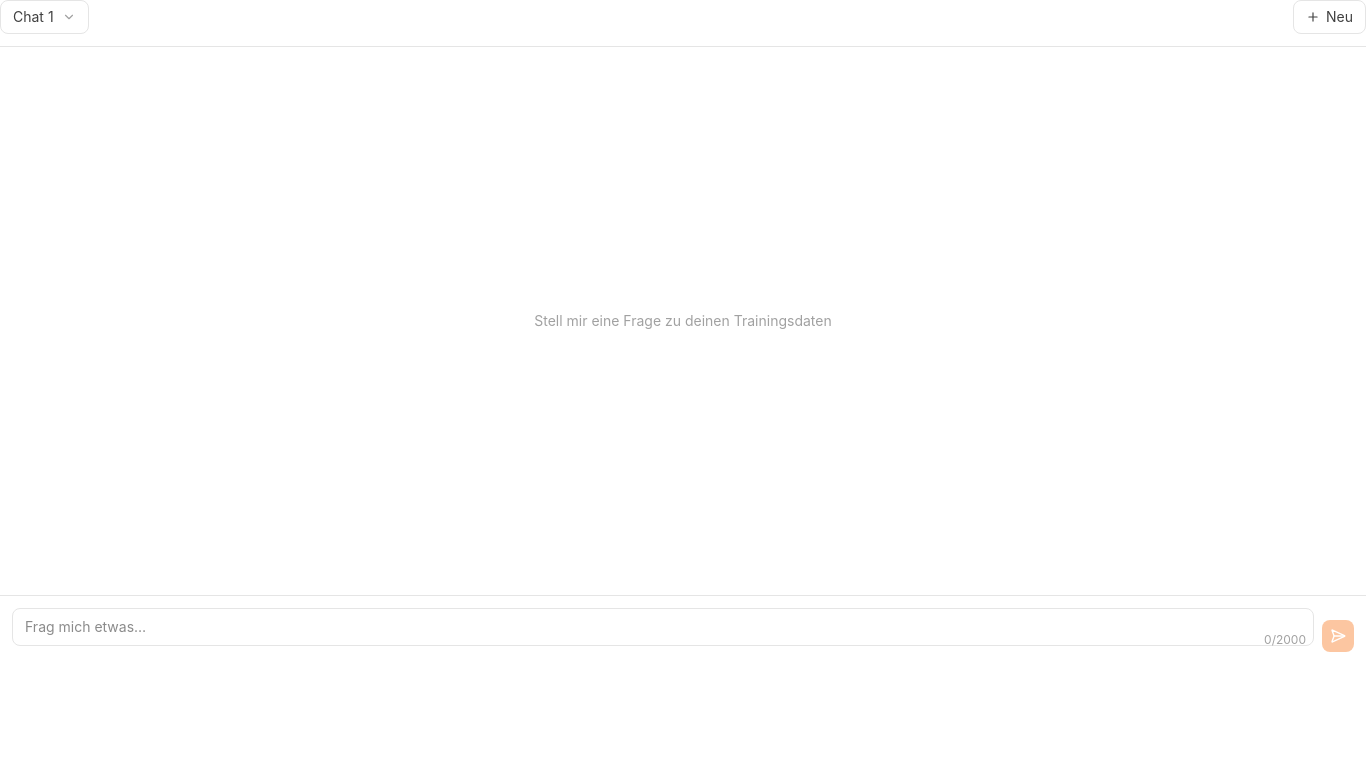
Test: ChatPage › clears a pending confirmation immediately when switching sessions after streaming
The image size is (1366, 768).
Type "Bitte vorbereiten" into the text box with placeholder "Frag mich etwas…" at (663, 627), box [12,608,1314,646]
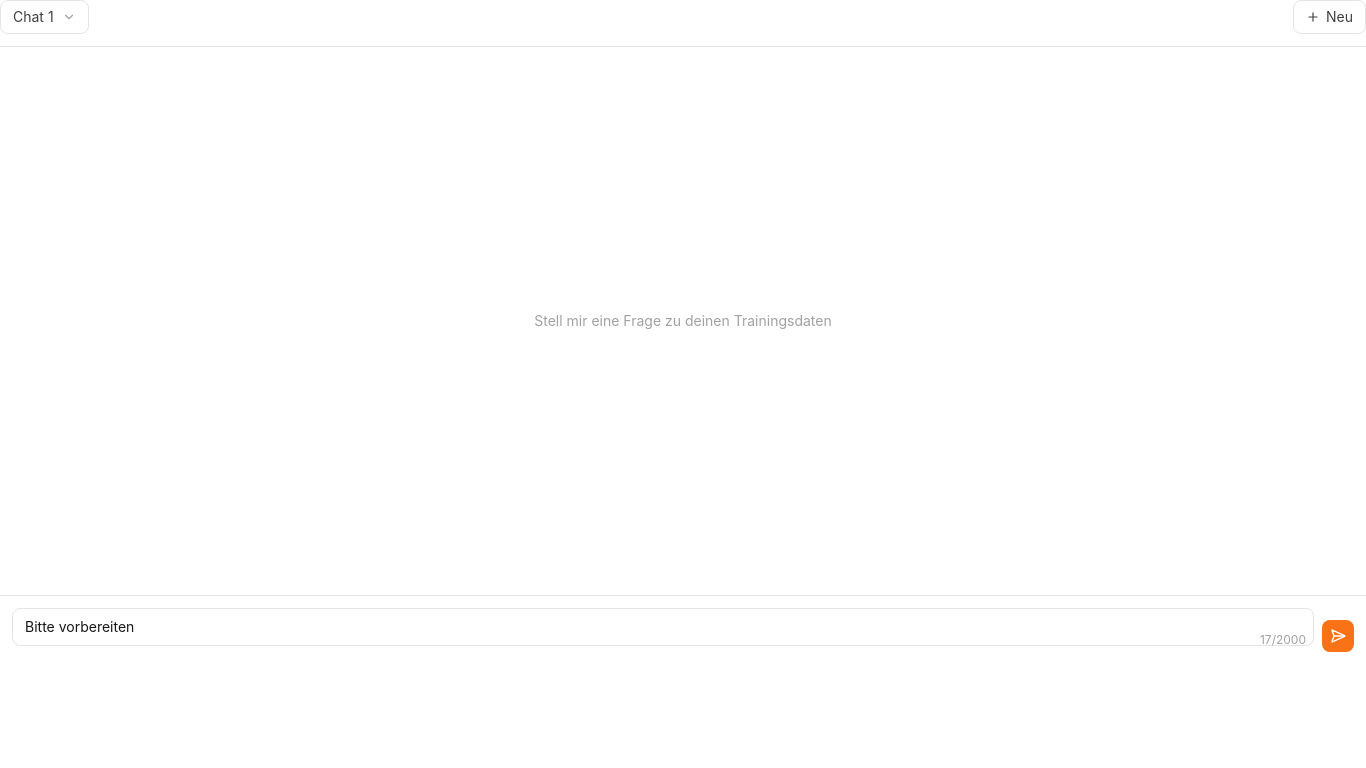
Press Enter in the text box with placeholder "Frag mich etwas…", box [12,608,1314,646]
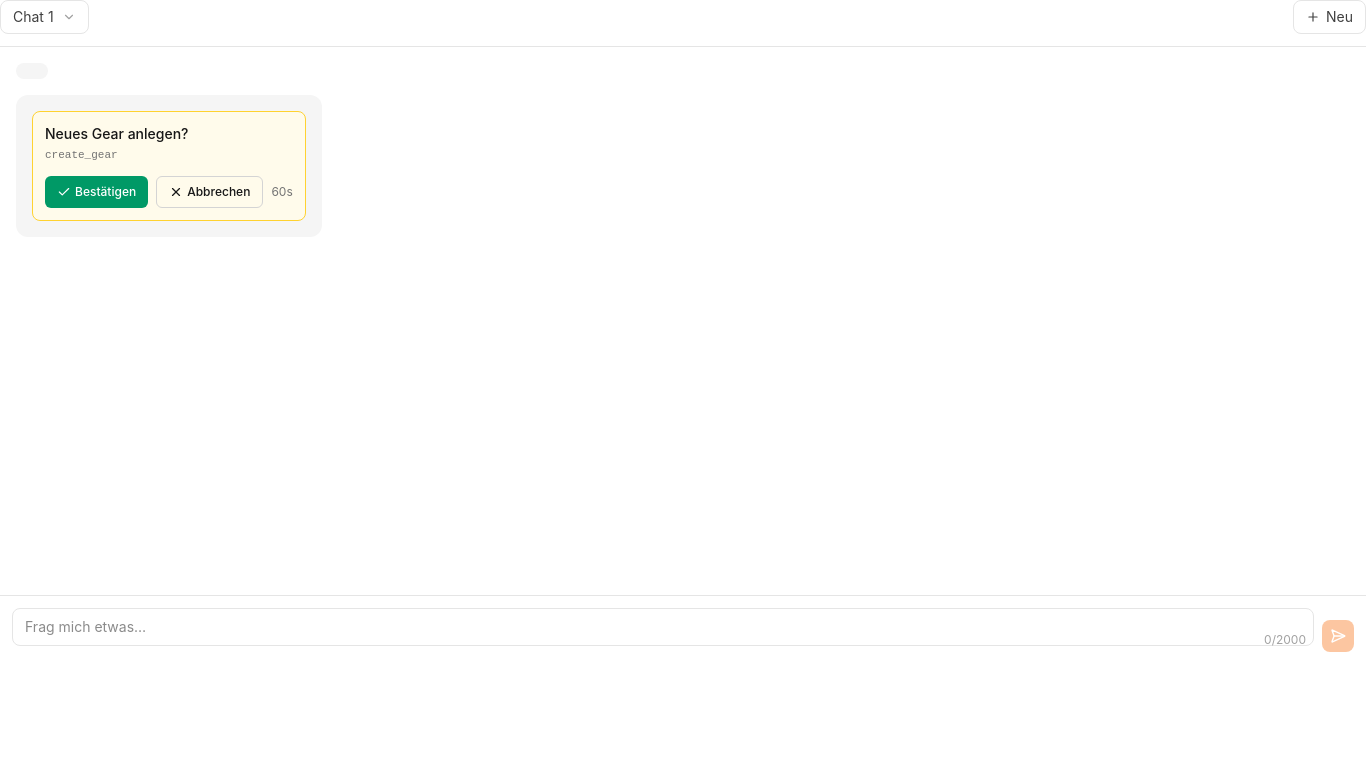
Check: the text "Neues Gear anlegen?" is shown, box [45,125,188,142]
Click the button "Chat 1" at (44, 17), box [0,0,89,34]
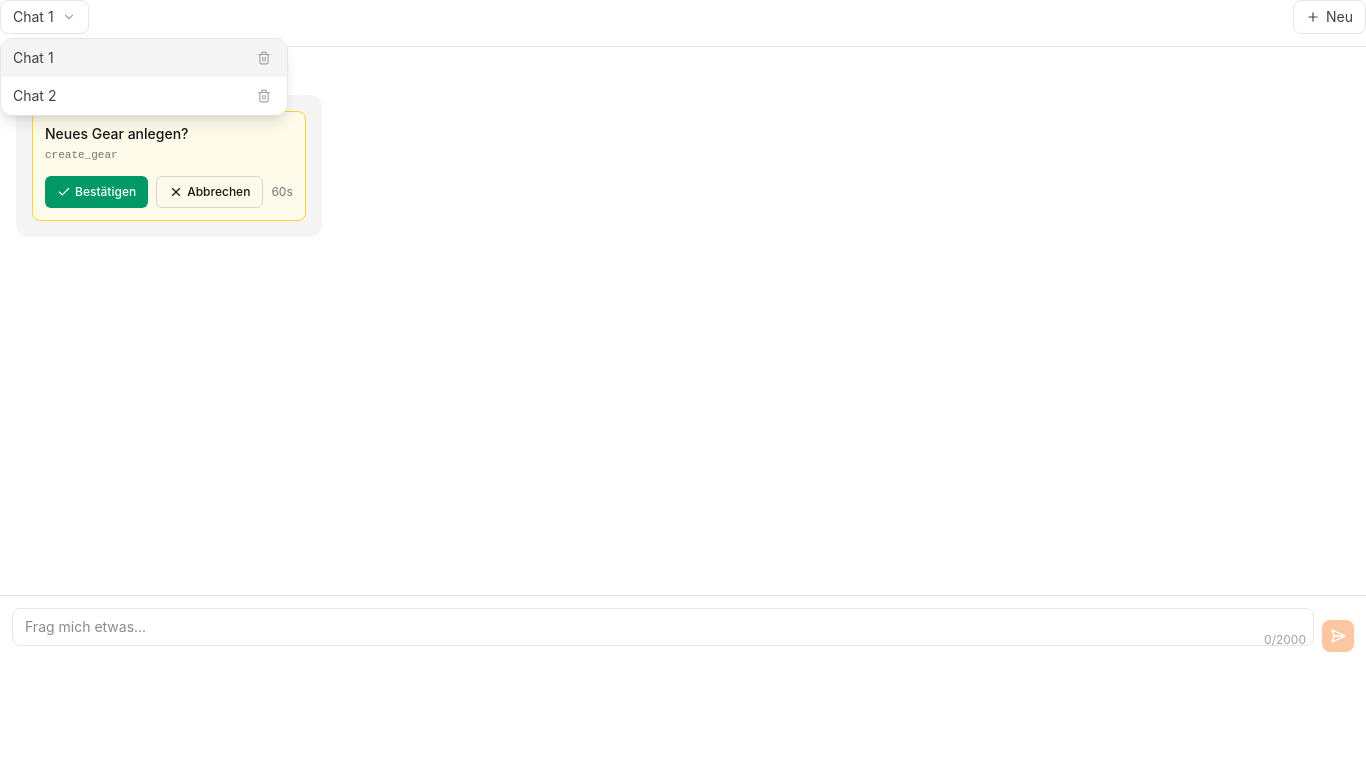
Click the text "Chat 2" at (35, 96), box [13,87,56,104]
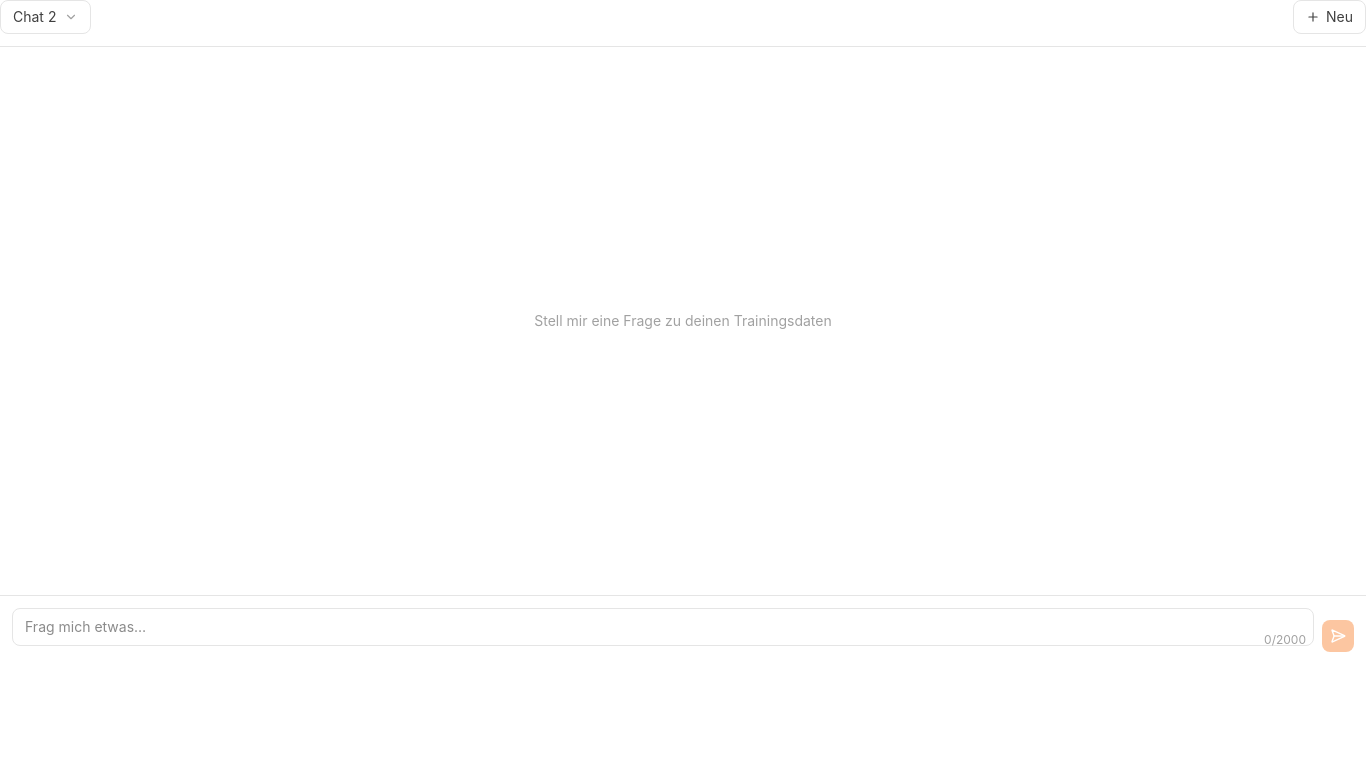
Check: the text "Neues Gear anlegen?" is gone
